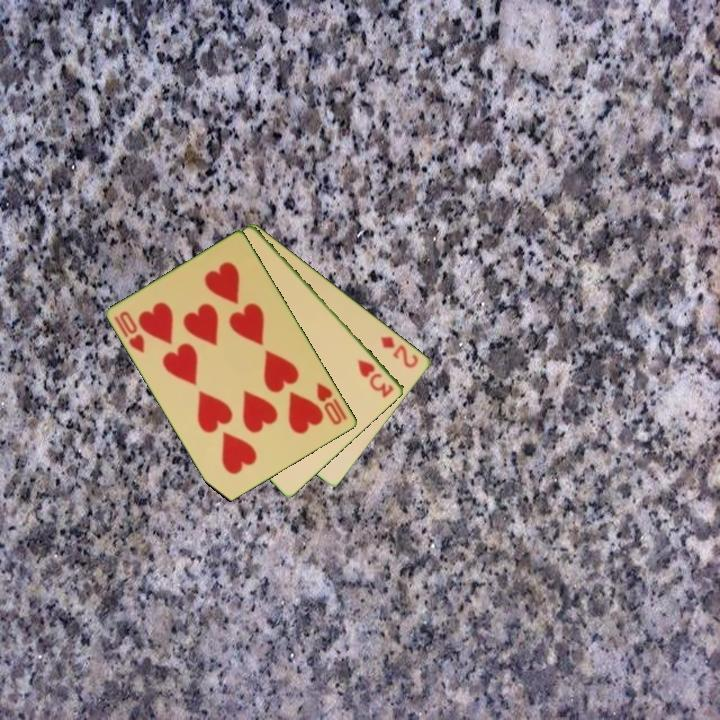10h: (313, 379, 350, 428), (111, 308, 148, 356)
2d: (377, 333, 421, 371)
3h: (354, 356, 397, 401)
